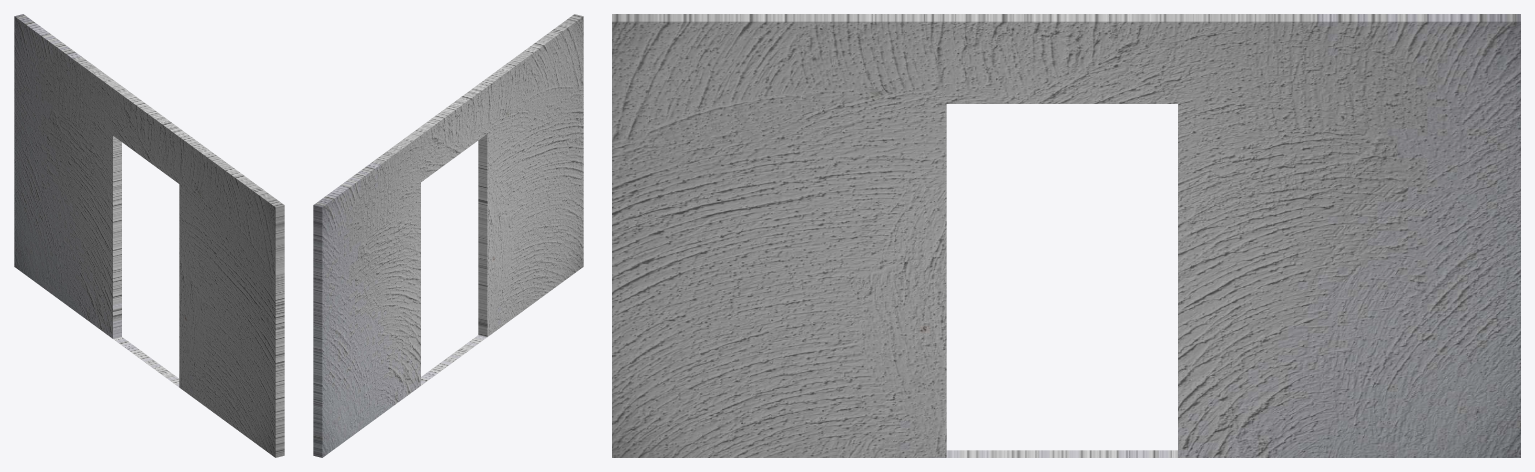
File: 2nd wall.fbx
3 renders of one model, left to right at view 1: azimuth 30°, elevation 25°; view 2: azimuth 150°, elevation 25°; view 3: azimuth 270°, elevation 25°, orthographic. The views are drawn at different scales.
Visible parts, largest first — view 1: Cube.012; view 2: Cube.012; view 3: Cube.012.
Part boxes in pixels (x1,y1,x2,y2): Cube.012: (14,14,284,457); Cube.012: (313,14,583,457); Cube.012: (612,14,1520,457).
Size of the model in its own units: 675 by 358 by 13.48.
Materials: 1 (1 with a texture image).
